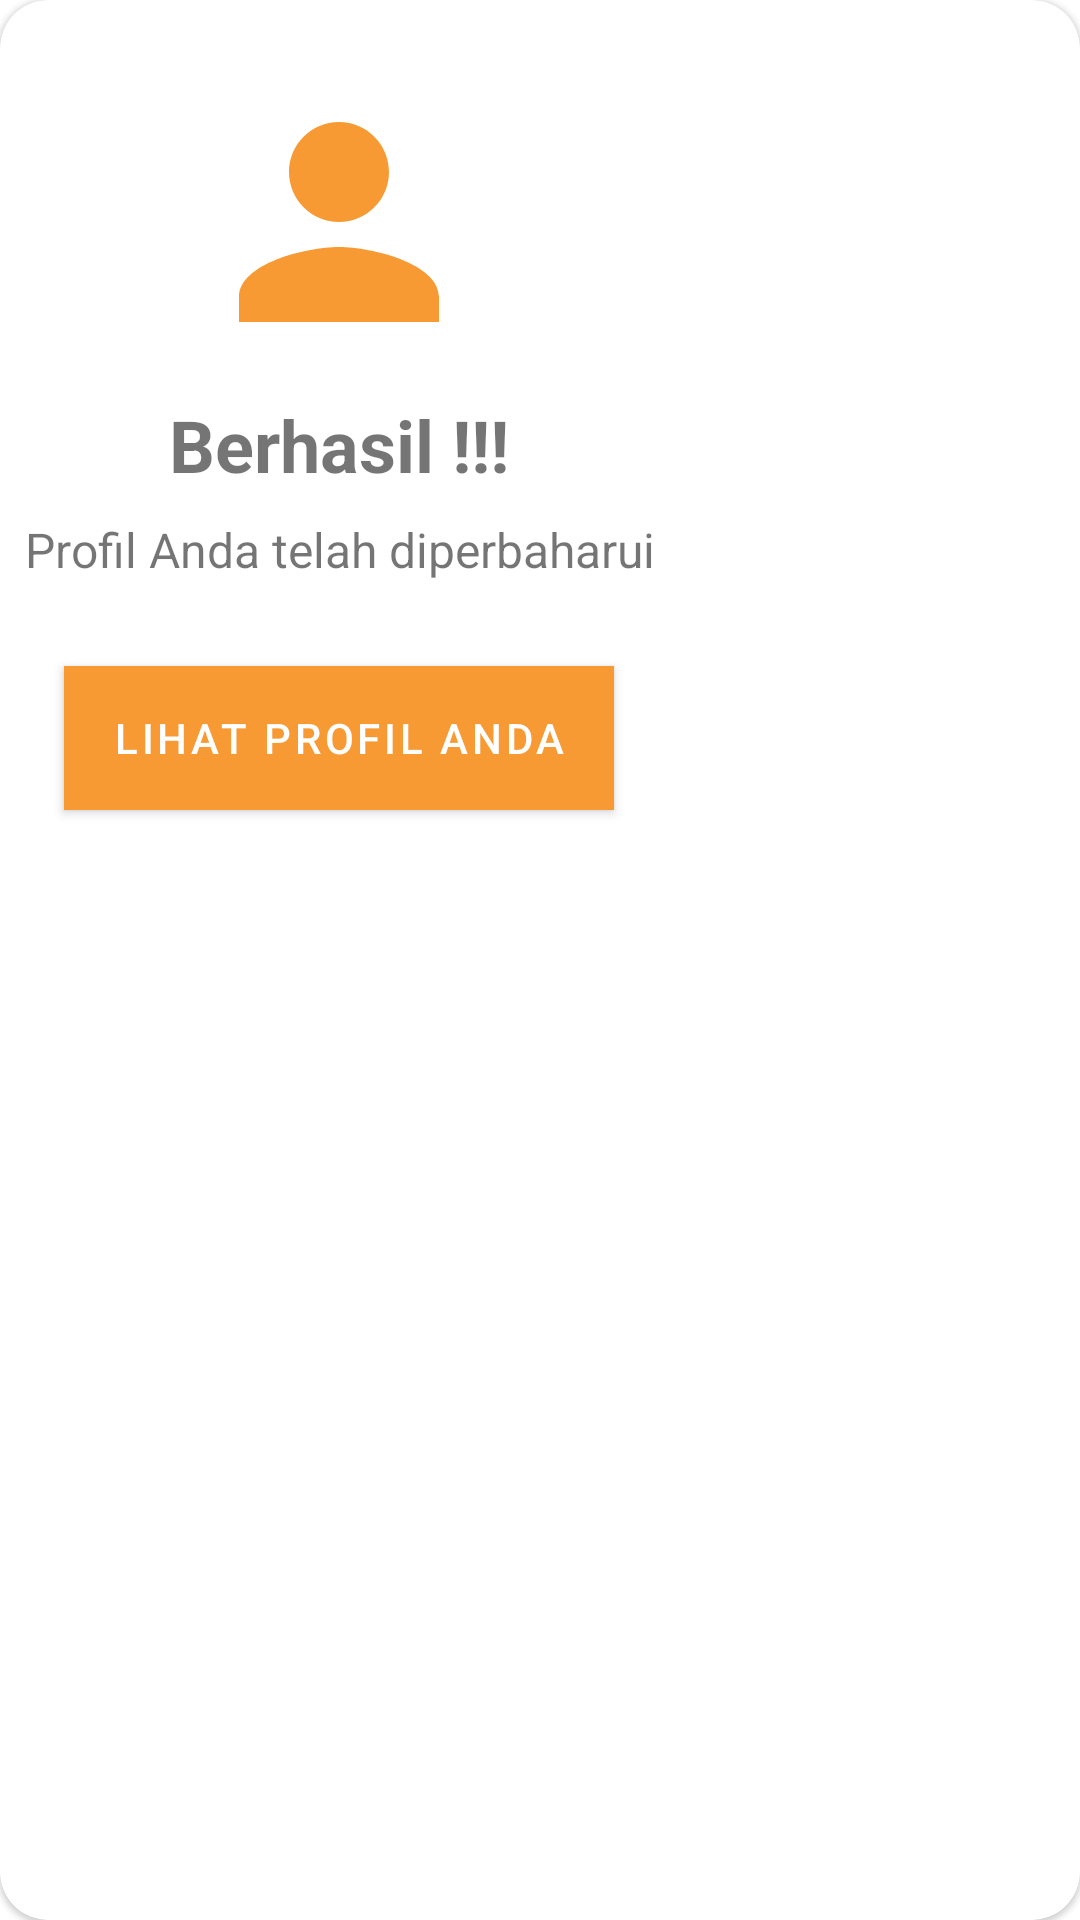

Screen size 1080 x 1920. Icon name, then its box in pixels as rect(x1, y1, x2, y2):
person: rect(239, 122, 439, 322)
